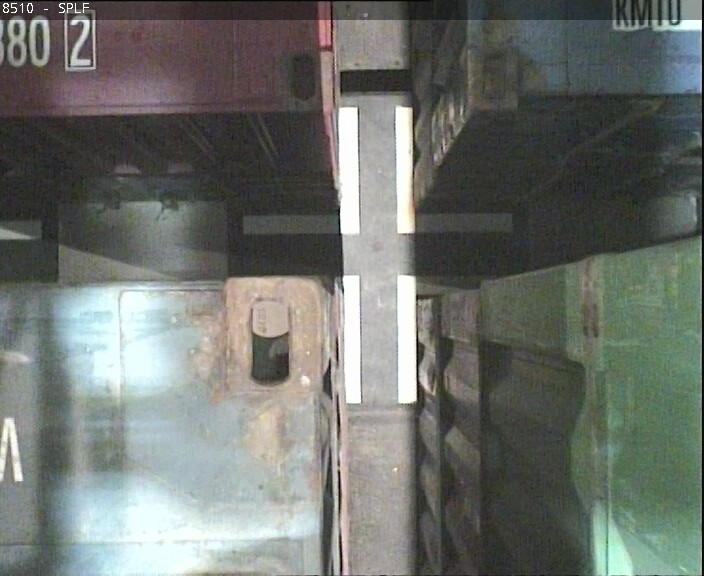groundmarker_1: (238, 110, 514, 237), (238, 273, 514, 400)
